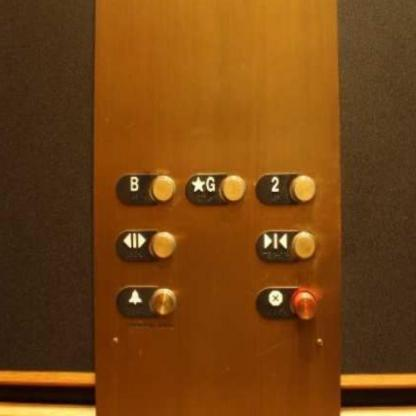2: (253, 170, 318, 206)
B: (113, 170, 178, 208)
alarm: (113, 282, 178, 321)
close: (253, 228, 317, 263)
open: (113, 226, 178, 263)
sG: (181, 169, 249, 207)
stop: (252, 285, 321, 322)
